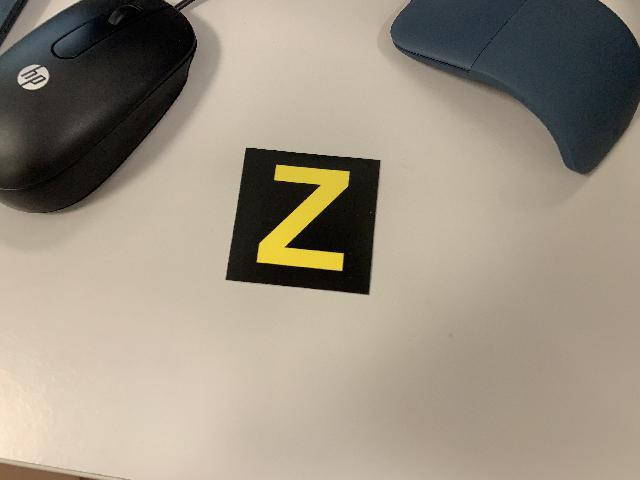z: (223, 147, 382, 298)
